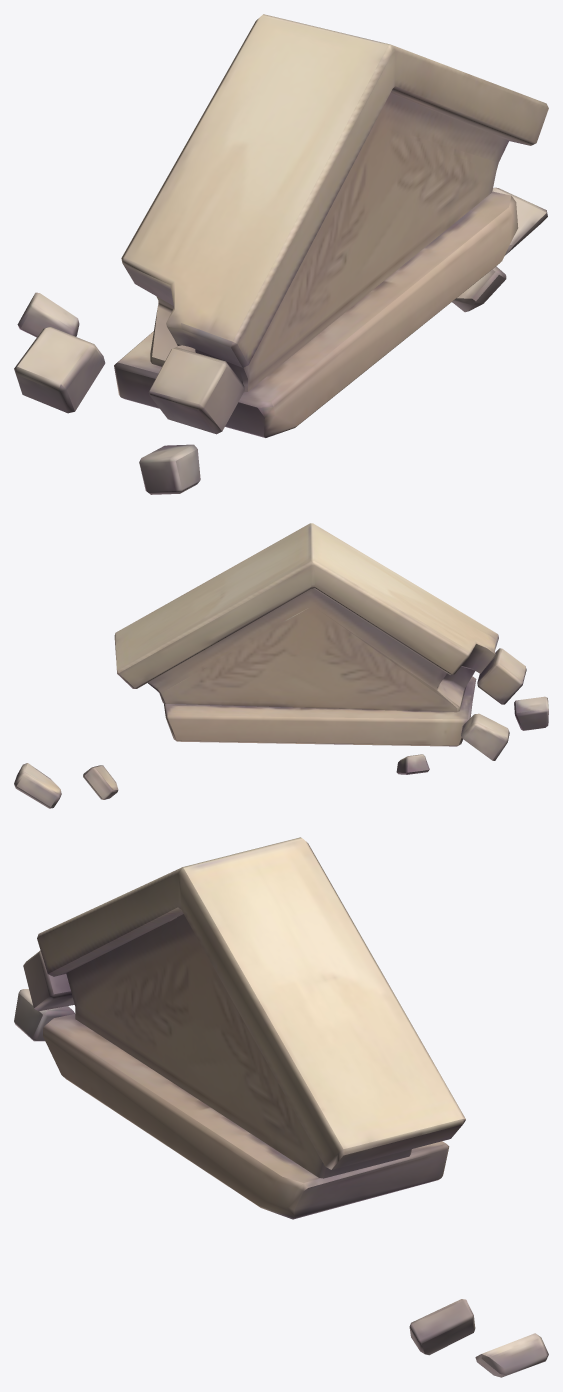
File: SM_RuinPediment_01.fbx
The picture shows the model from 3 angles, top to bottom: view 1: azimuth 30°, elevation 25°; view 2: azimuth 150°, elevation 25°; view 3: azimuth 270°, elevation 25°; orthographic projection. The views are drawn at different scales.
Parts seen in each view (by area): view 1: SM_RuinPediment_01; view 2: SM_RuinPediment_01; view 3: SM_RuinPediment_01.
Boxes of the visible parts, x1=… form: SM_RuinPediment_01: x1=14, y1=14, x2=548, y2=494; SM_RuinPediment_01: x1=14, y1=523, x2=548, y2=808; SM_RuinPediment_01: x1=14, y1=837, x2=548, y2=1377.
Size of the model in its own units: 85.28 by 50.13 by 62.27.
Materials: 1 (1 with a texture image).
